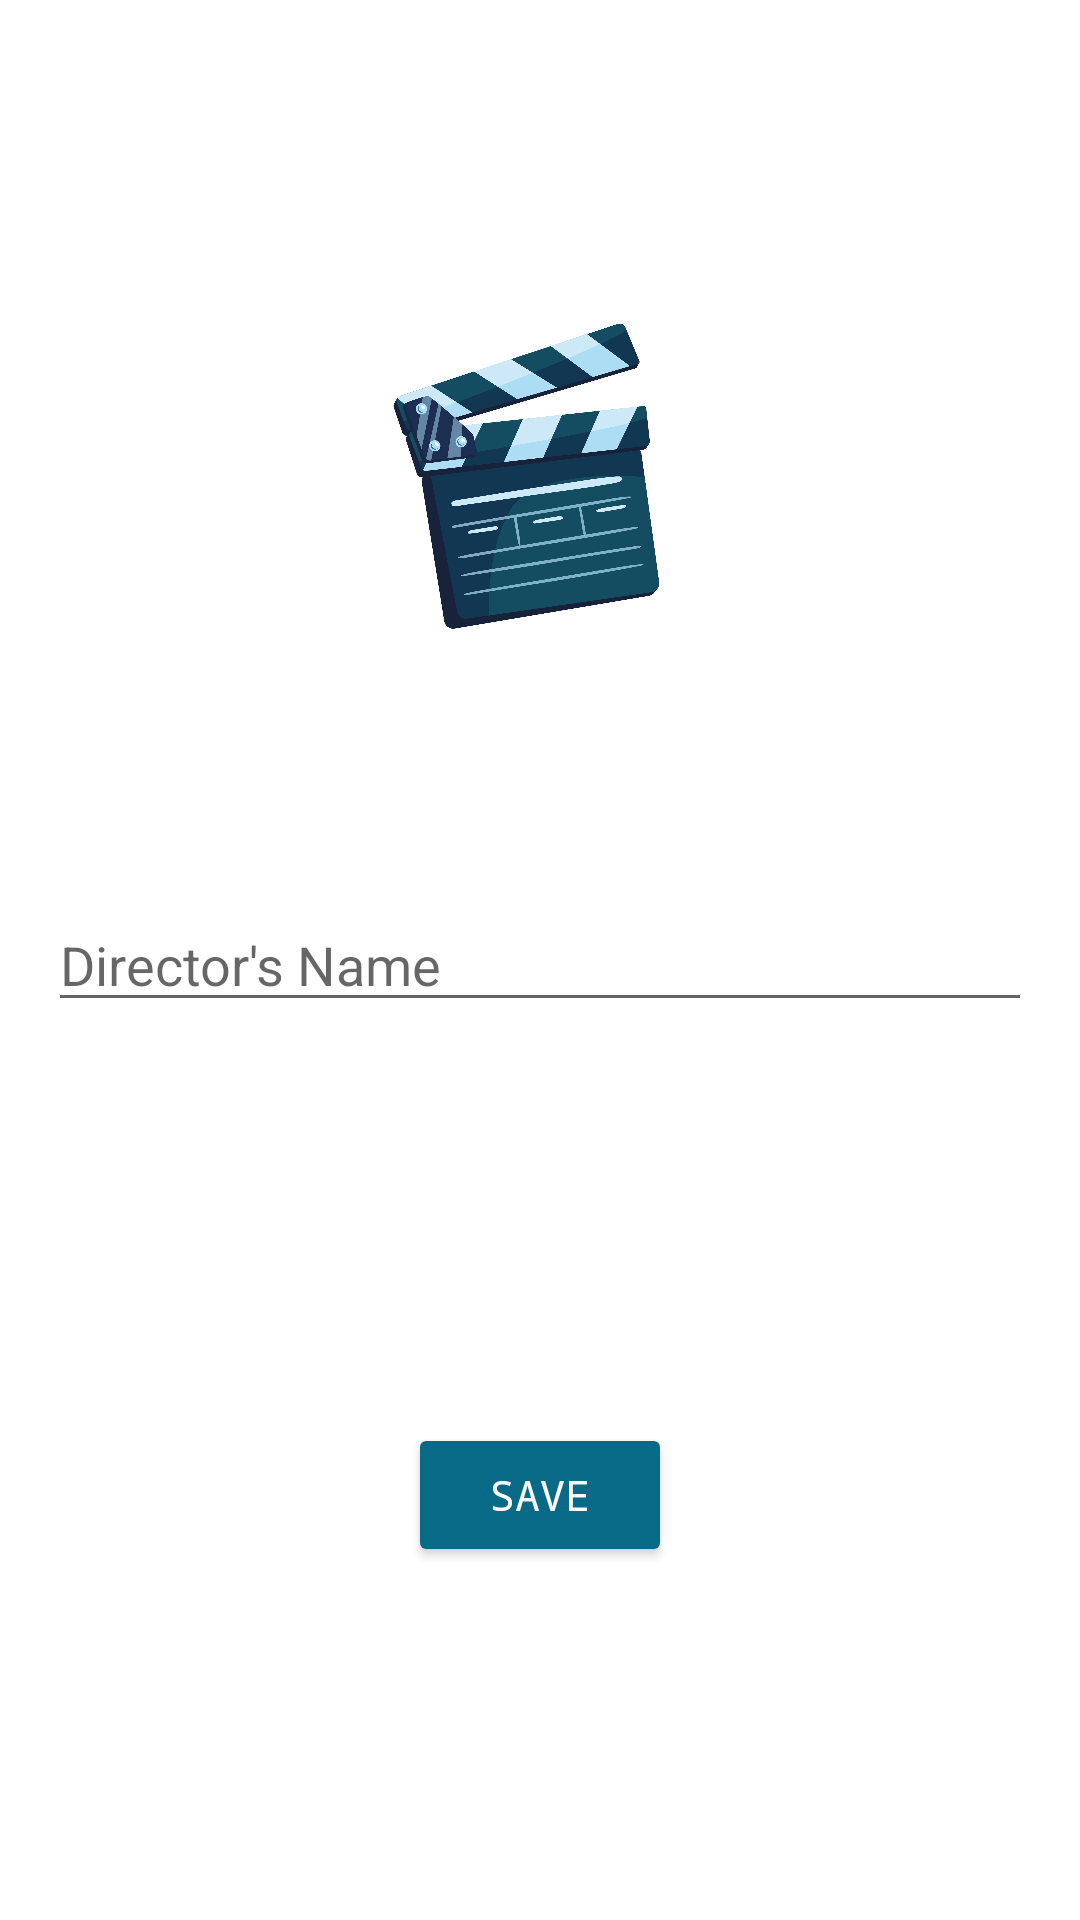

Named icons in this screenshot (1080 × 1920) and their bounding boxes, (x1, y1, x2, y2):
director: (393, 324, 659, 629)
